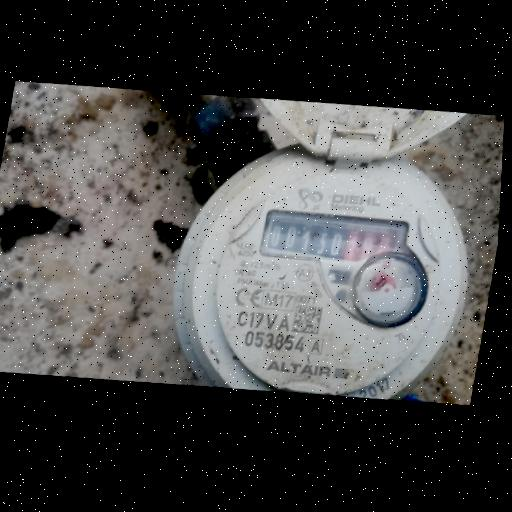0: (327, 225, 346, 259), (281, 220, 301, 252), (267, 219, 285, 249)
1: (344, 228, 363, 261), (297, 222, 316, 254)
5: (313, 224, 333, 257)
7: (376, 231, 395, 257)
9: (359, 230, 378, 262)
border_water_meter_number: (262, 203, 420, 274)
